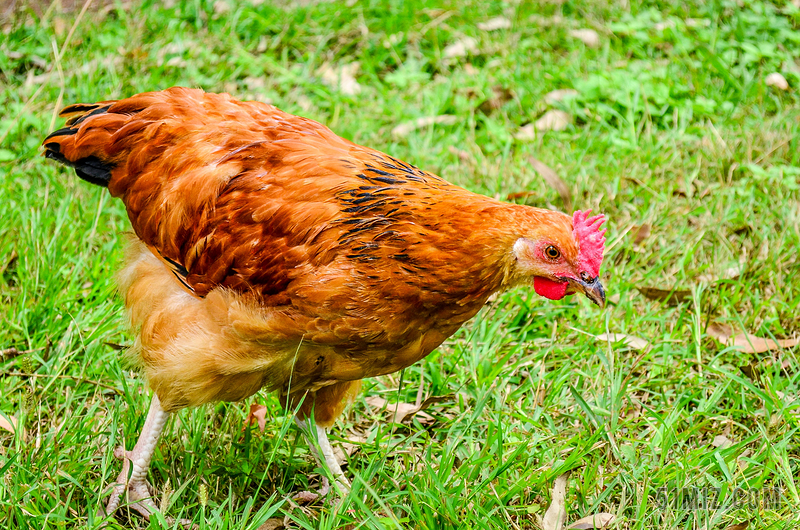chicken: (41, 83, 610, 530)
